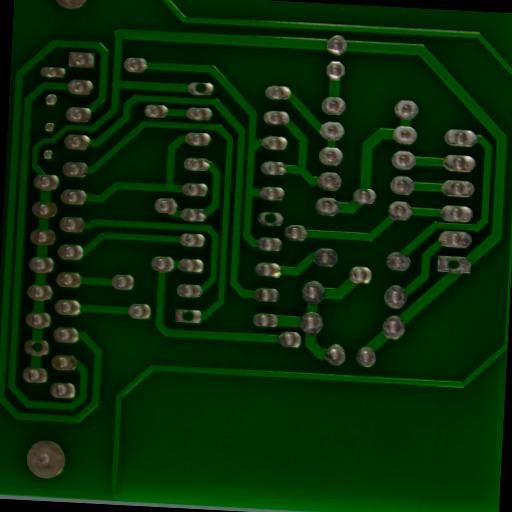missing_hole: (440, 258, 466, 273), (261, 210, 280, 226), (191, 82, 208, 96), (28, 340, 45, 354), (178, 310, 194, 324)
